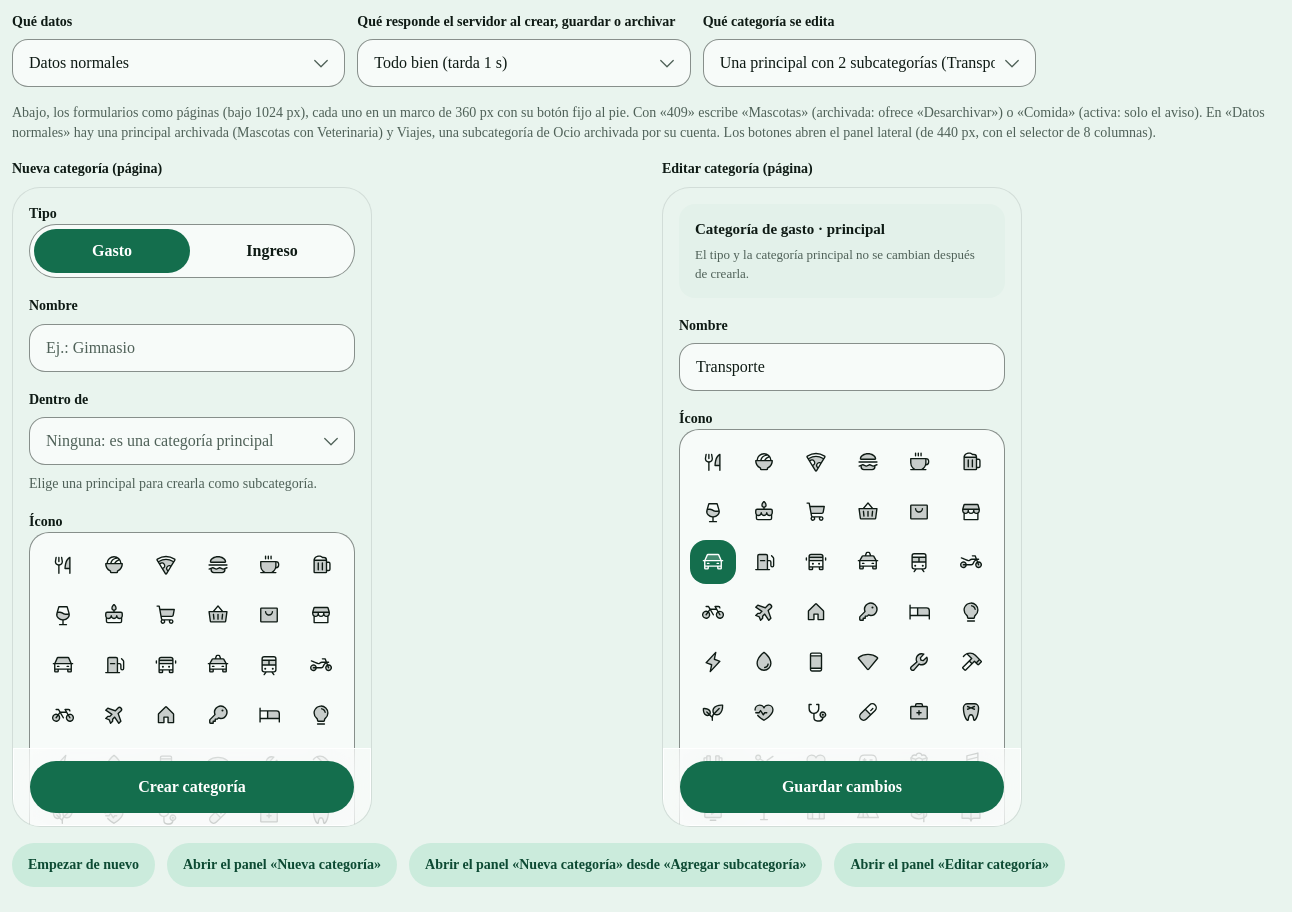
Test: CategoryFormsDemo › only says the name is in use when the clash is active
Select "409: el nombre ya está en uso (escribe «Mascotas» o «Comida»)" in the dropdown labelled "Qué responde el servidor al crear, guardar o archivar" at (524, 63), box [357,39,691,87]
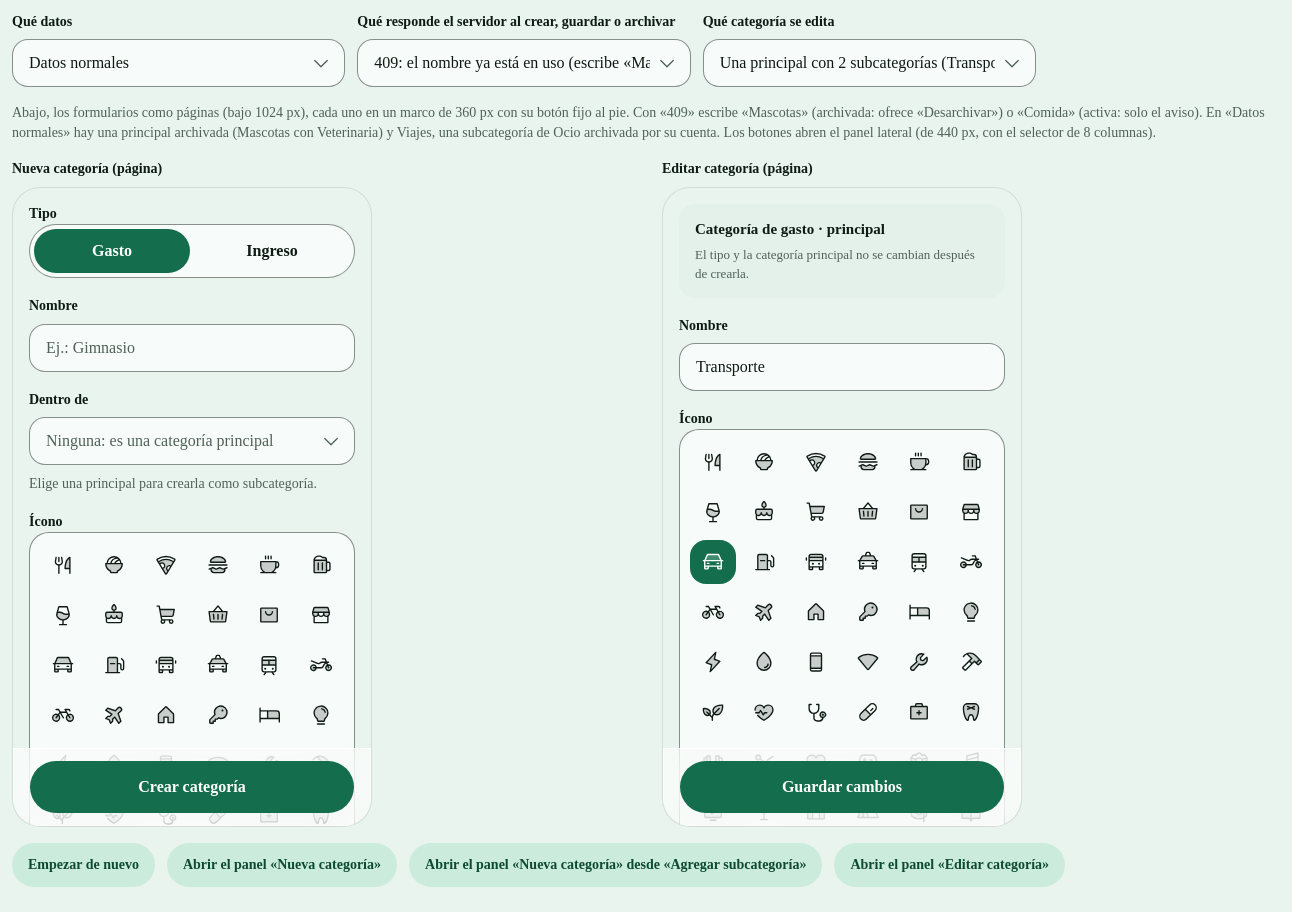
Type "Comida" into the field labelled "Nombre" below "Ingreso" at (192, 348), box [29,324,355,372]
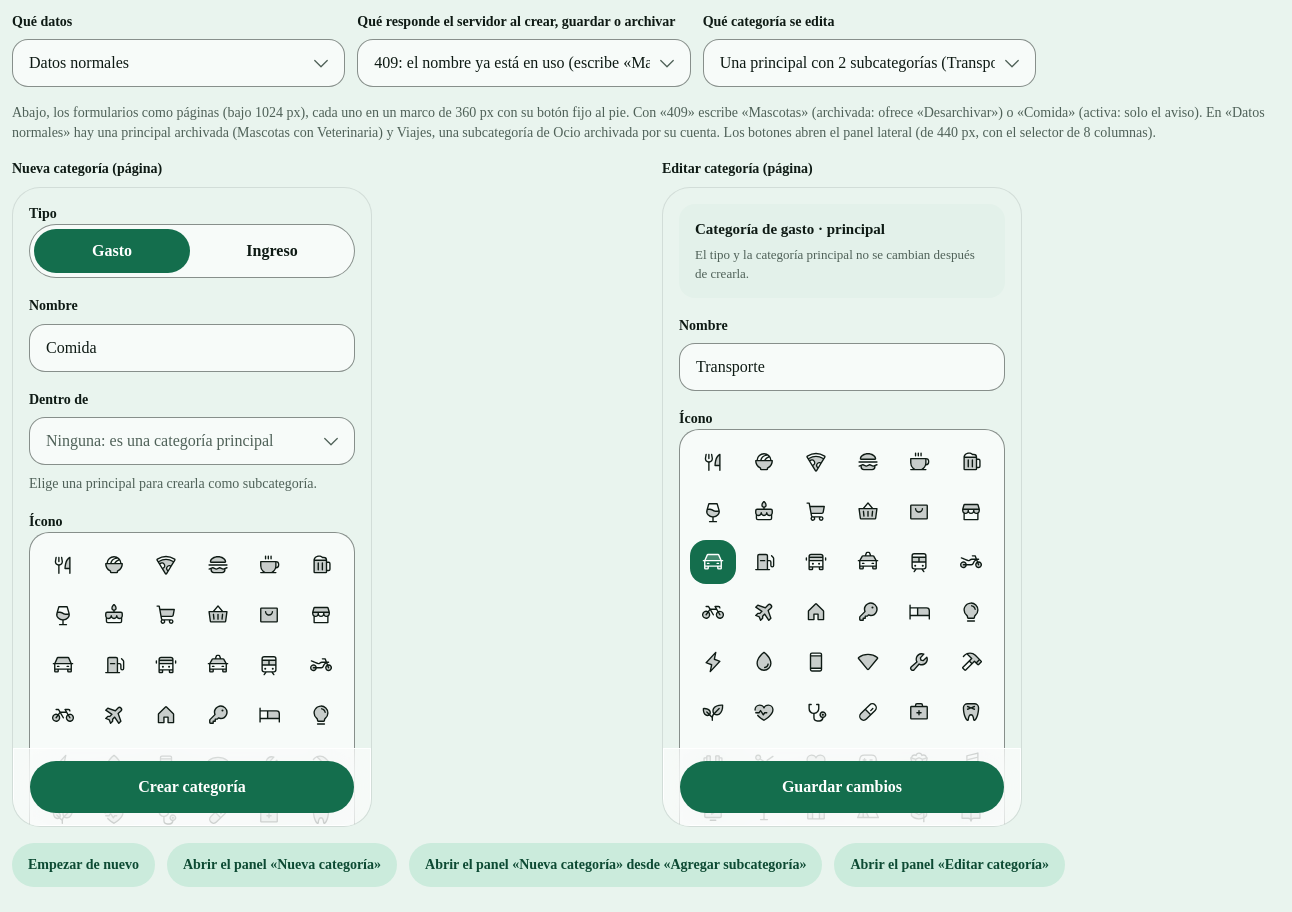
Click the button "Crear categoría" at (192, 787), box [30,761,354,813]
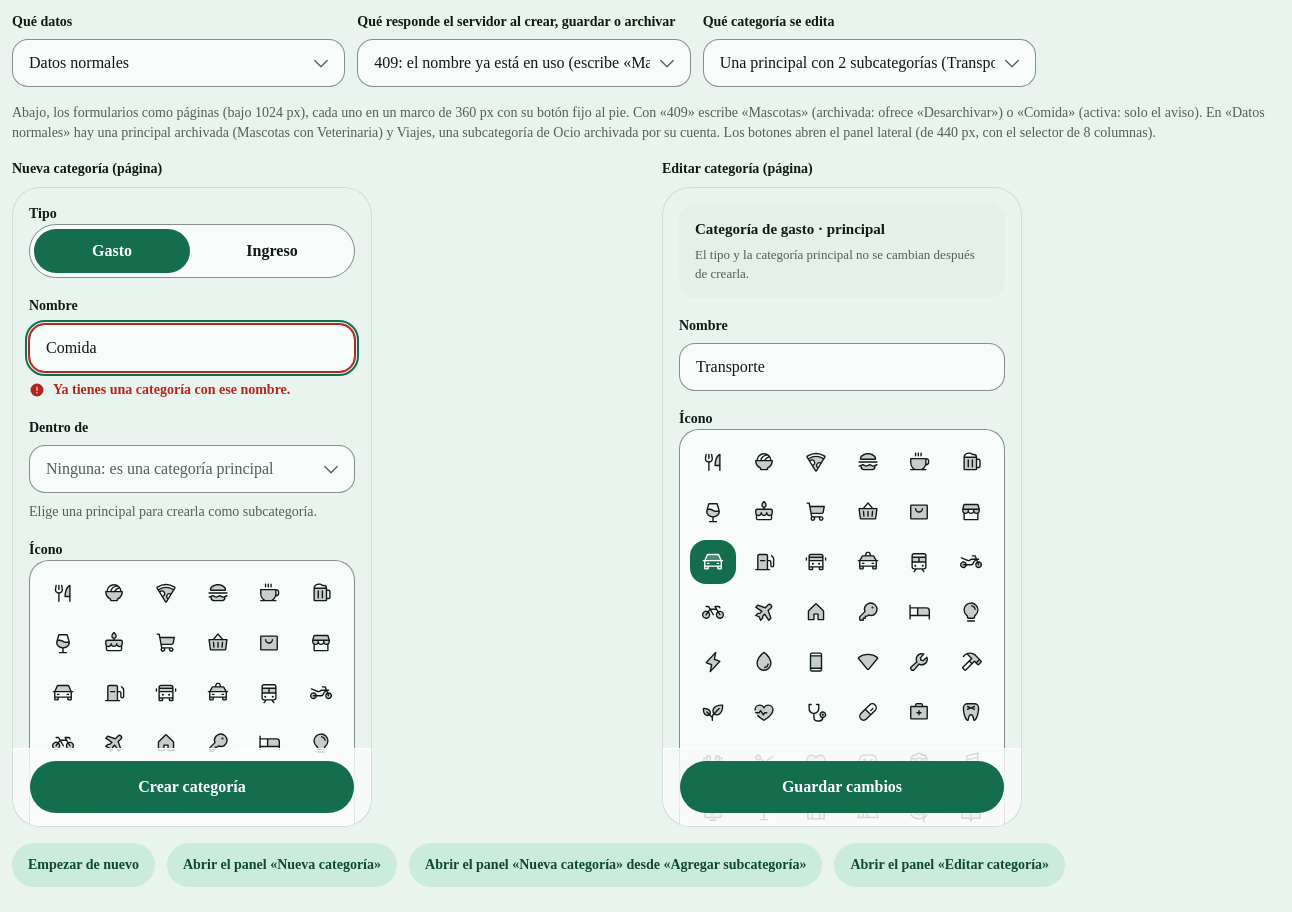
Check: the text "Ya tienes una categoría con ese nombre." is shown, box [53,380,290,400]
